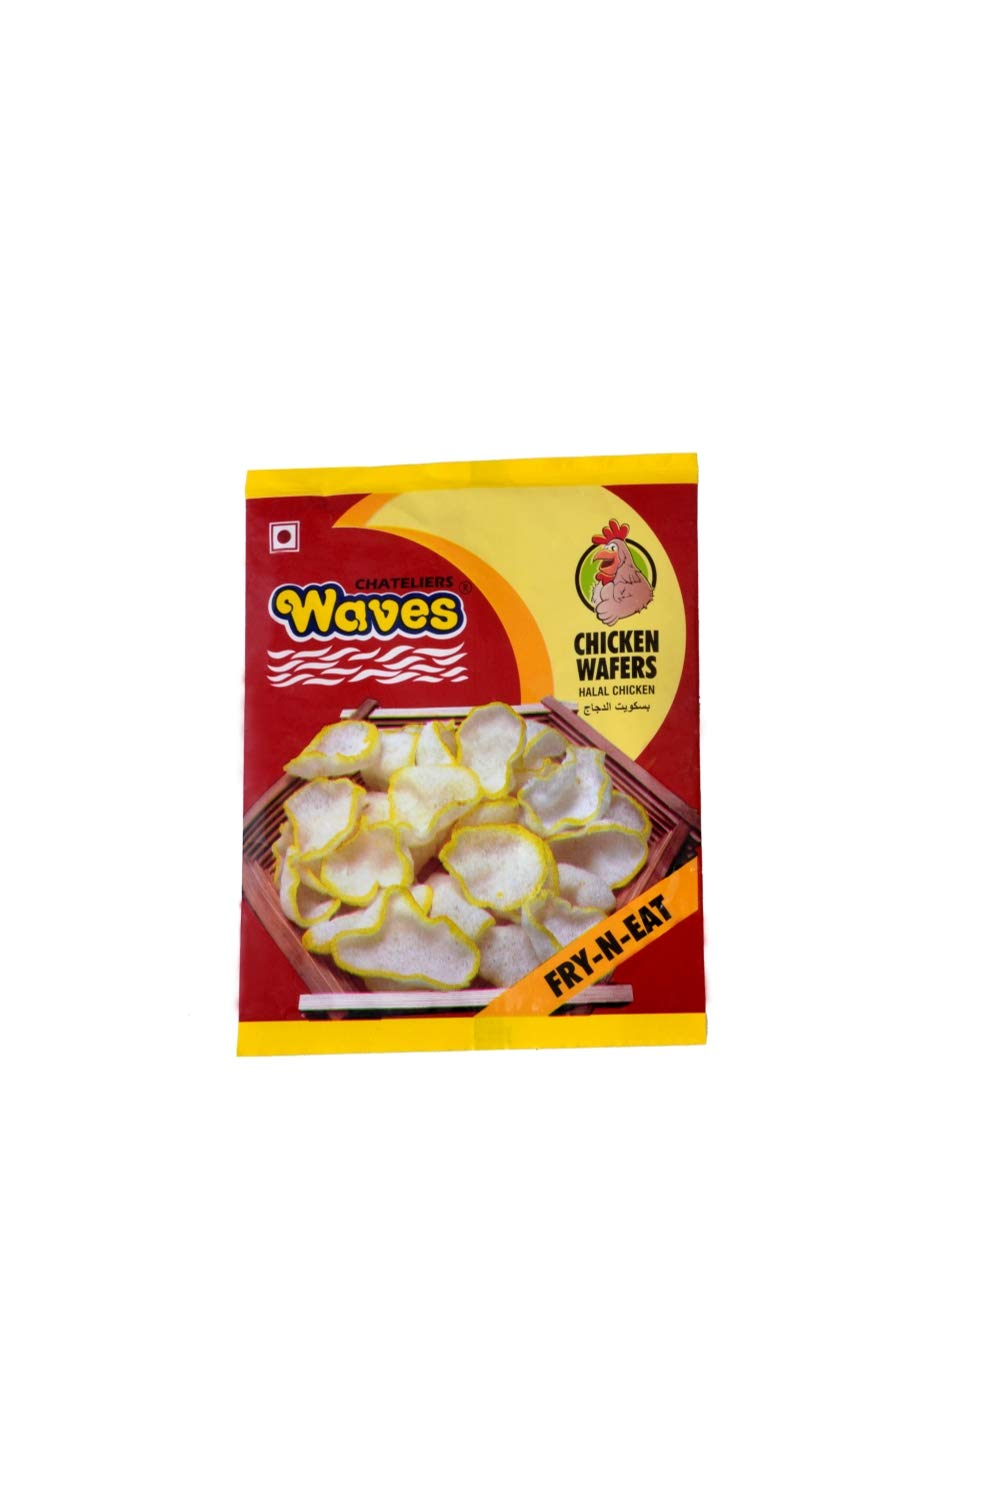nonveg_red: (269, 522, 299, 552)
